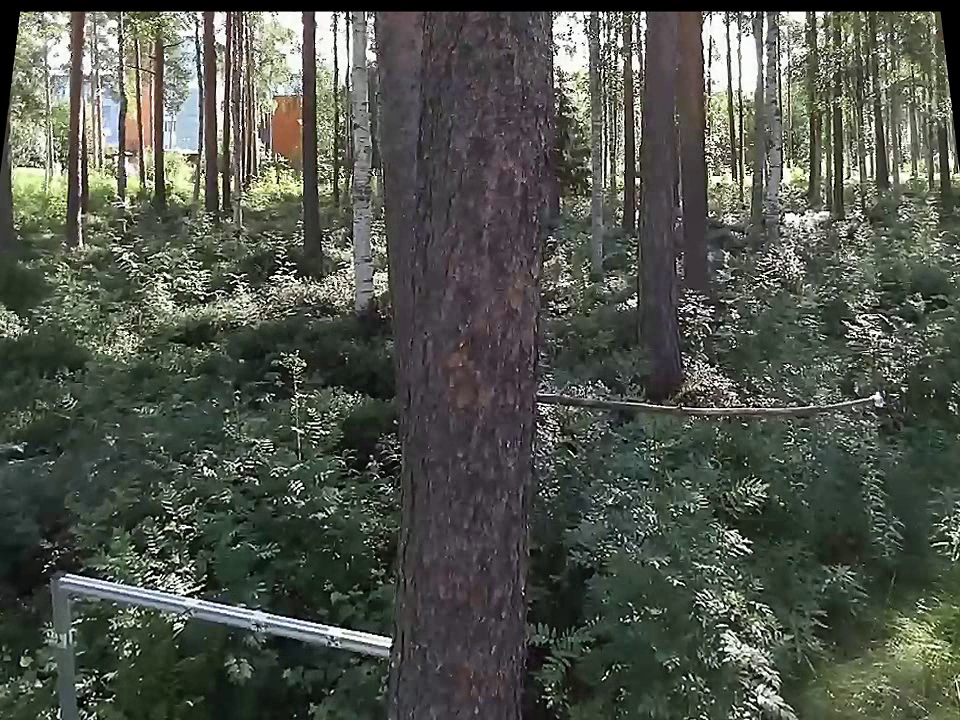aluminum_frame: (57, 568, 389, 663), (44, 567, 83, 716)
branch: (540, 377, 868, 424)
